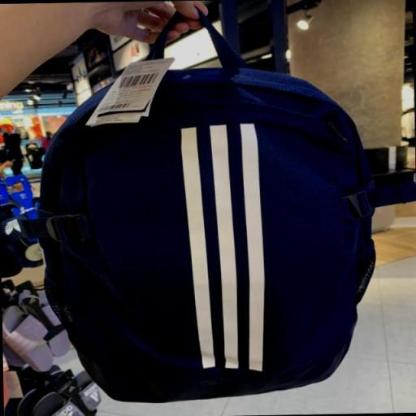bag: (25, 52, 379, 406)
